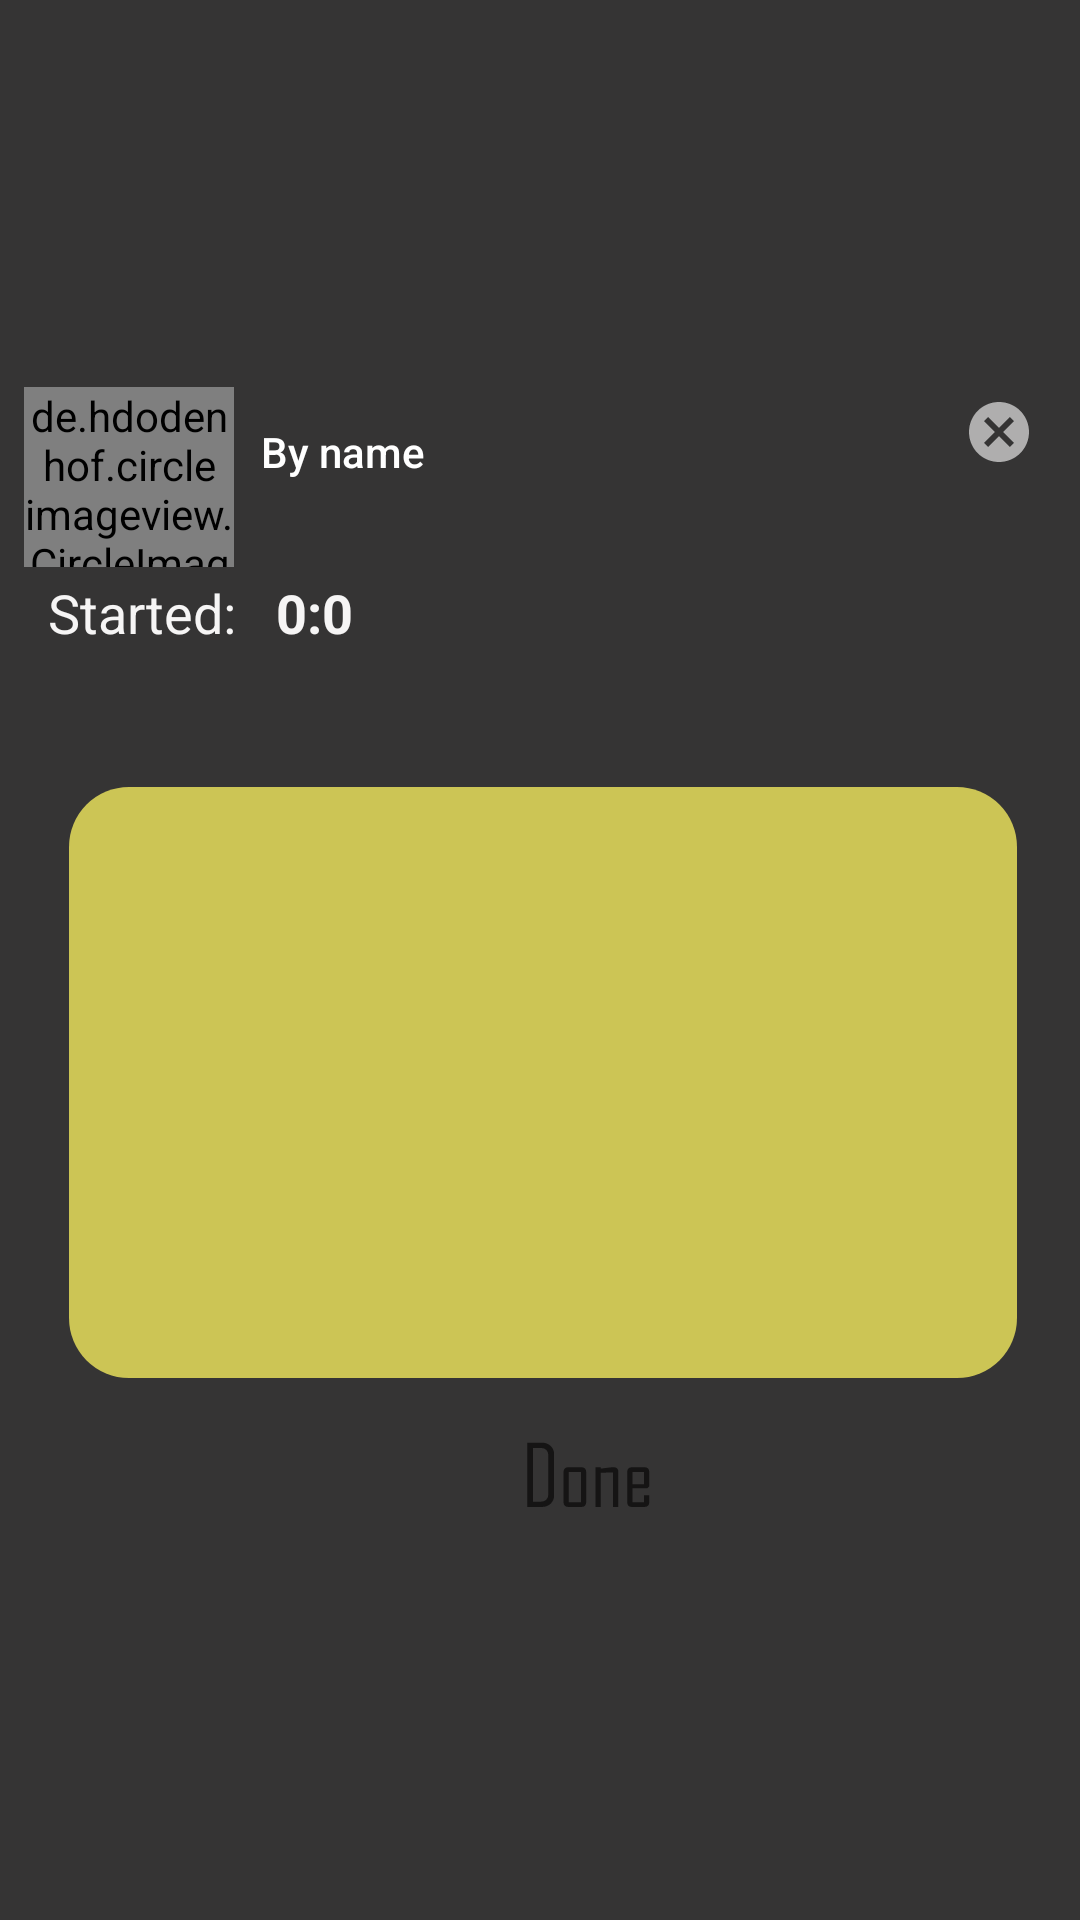

Icons on this 1080px×1920px Android screen, each with its box as (x1, y1, x2, y2):
cancel: (969, 402, 1029, 462)
